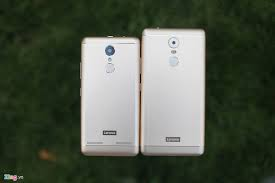lenovo: (138, 28, 208, 156), (80, 37, 138, 160)
